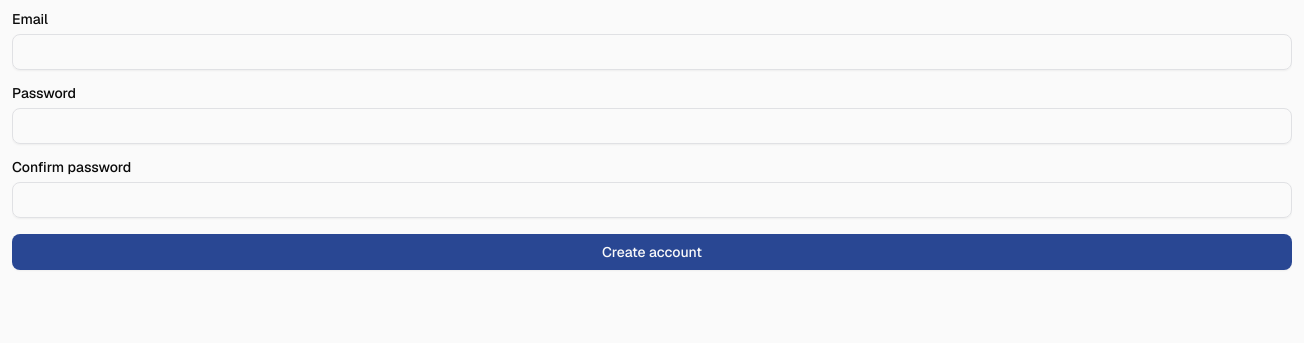
Test: register form validation › requires a long enough, confirmed password
Step 1. Type "sneha@example.com" into the field labelled "Email" → (652, 52), box [12,34,1292,70]
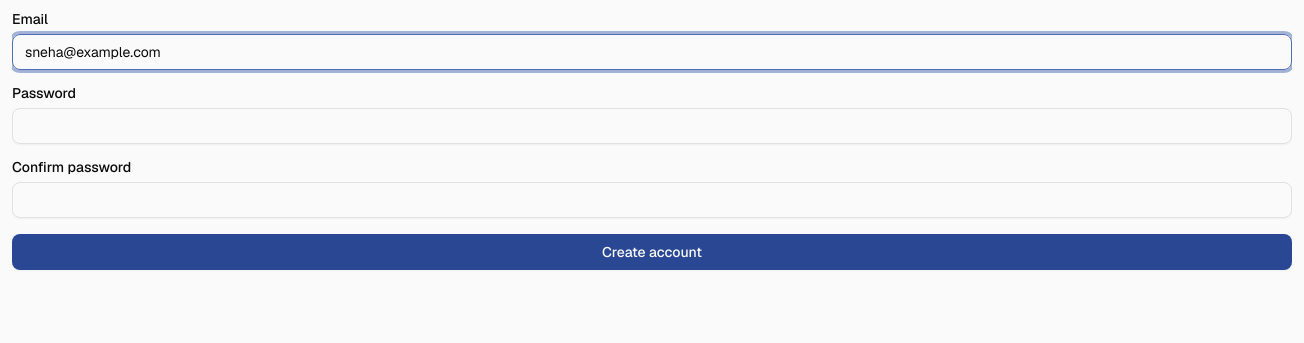
Step 2. Type "short" into the password field labelled "Password" → (652, 126), box [12,108,1292,144]
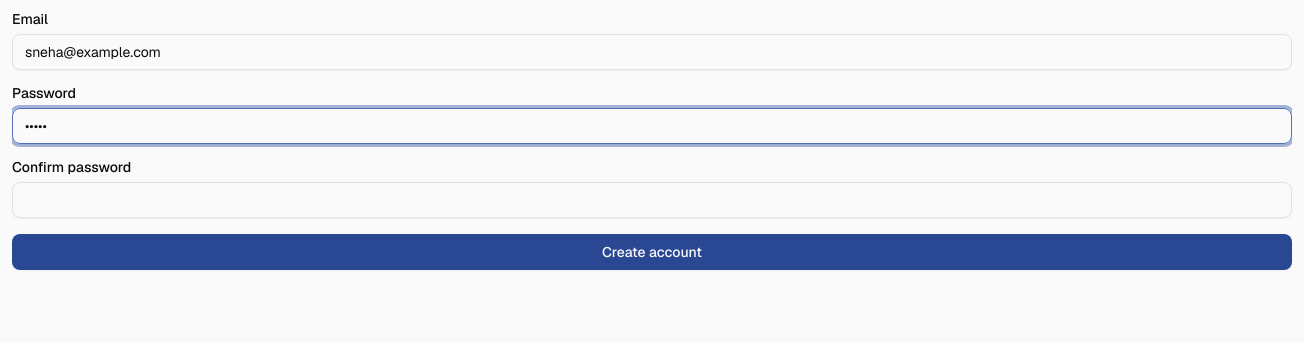
Step 3. Type "different" into the password field labelled "Confirm password" → (652, 200), box [12,182,1292,218]
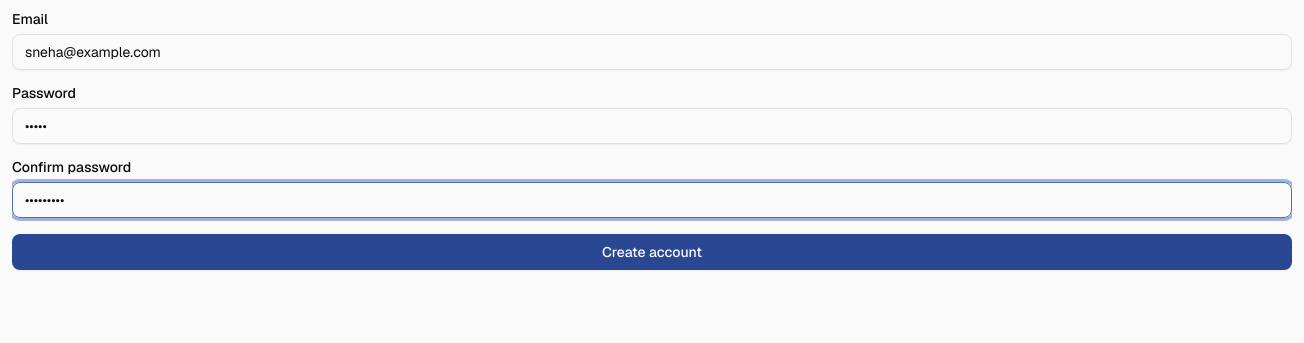
Step 4. Click the button "Create account" → (652, 252), box [12,234,1292,270]
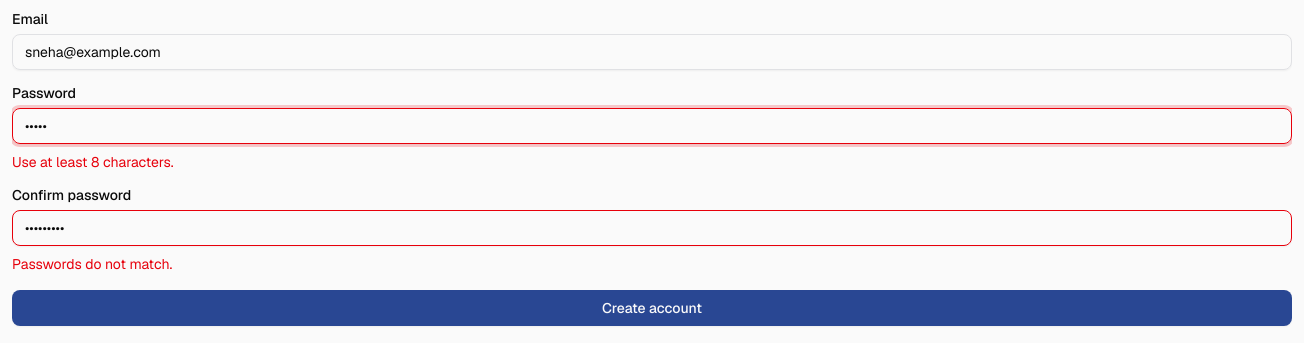
expect the text "Use at least 8 characters." is shown: met, box [12,153,174,171]
expect the text "Passwords do not match." is shown: met, box [12,255,172,273]
